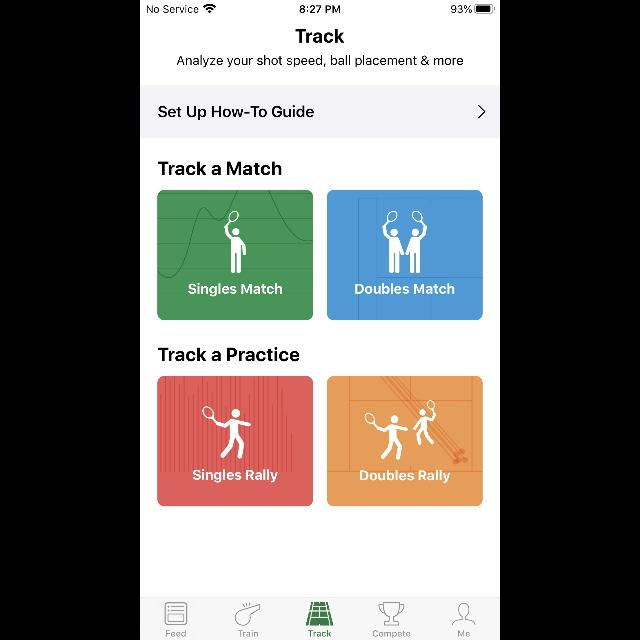icon: (378, 602, 404, 626), (306, 601, 332, 625), (236, 602, 260, 626), (452, 603, 476, 625), (165, 602, 188, 624), (478, 105, 486, 118)
image: (328, 376, 482, 506), (158, 376, 312, 506), (328, 190, 482, 320), (158, 190, 312, 320)
text: (177, 56, 463, 68), (158, 106, 314, 120), (158, 347, 300, 361), (158, 162, 282, 174), (188, 283, 282, 297), (360, 470, 450, 482), (192, 470, 278, 482), (356, 284, 454, 294), (296, 29, 344, 43), (372, 630, 410, 638), (308, 630, 332, 636), (166, 630, 186, 636), (238, 630, 258, 636), (458, 630, 469, 636)
uppertaskbar: (140, 0, 500, 14)
